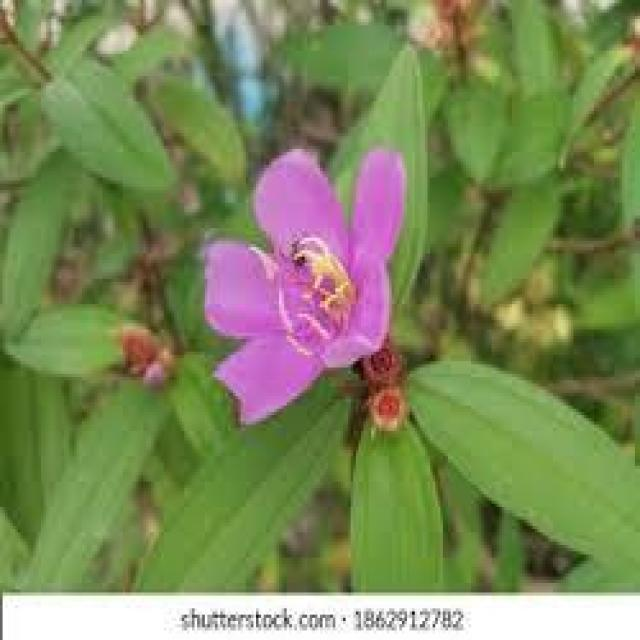organic waste: (190, 138, 422, 404)
